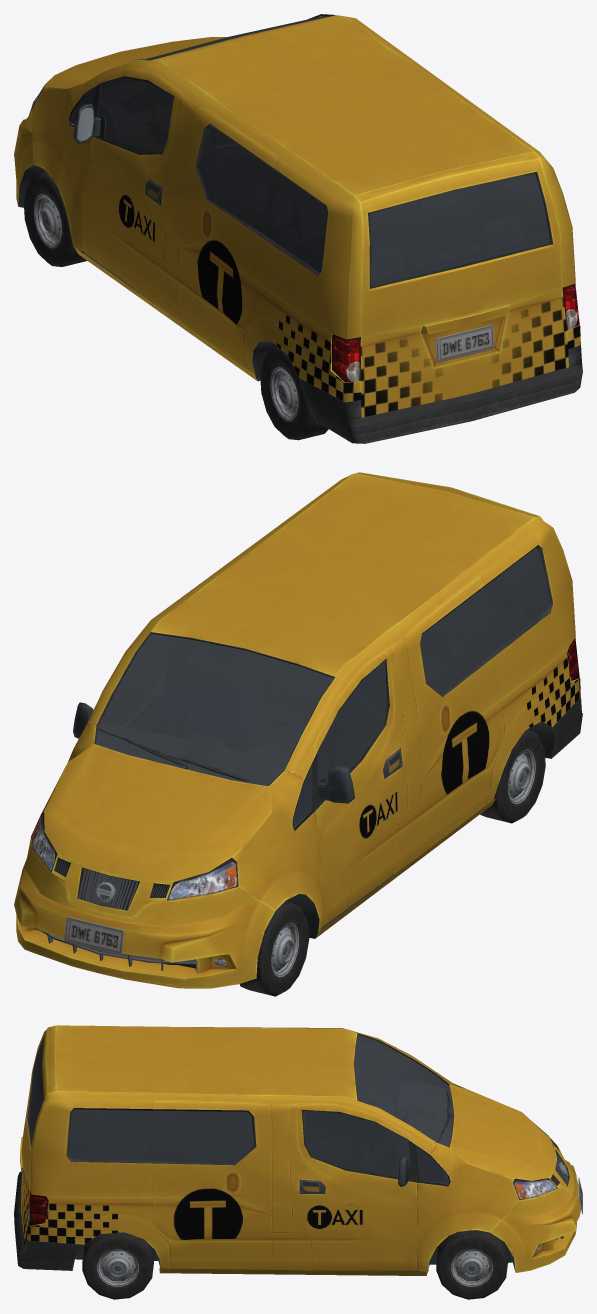
File: Van_Taxi.glb
The picture shows the model from 3 angles, top to bottom: view 1: azimuth 30°, elevation 25°; view 2: azimuth 150°, elevation 25°; view 3: azimuth 270°, elevation 25°; orthographic projection. The views are drawn at different scales.
Visible parts, largest first — view 1: Taxi_Van__LOD4; view 2: Taxi_Van__LOD4; view 3: Taxi_Van__LOD4.
Part boxes in pixels (x1=…): Taxi_Van__LOD4: x1=14, y1=14, x2=582, y2=443; Taxi_Van__LOD4: x1=14, y1=472, x2=582, y2=996; Taxi_Van__LOD4: x1=14, y1=1025, x2=582, y2=1299.
Bounding box in the file's own units: 1.56 × 1.44 × 3.68.
2 materials, 2 textured.
